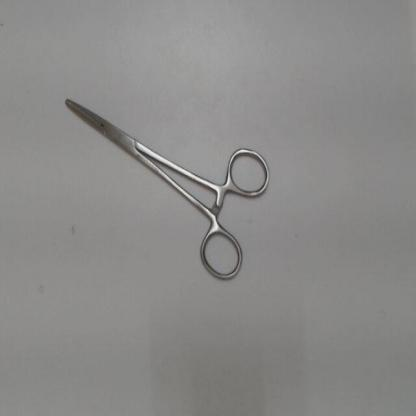Mayo Needle Holder: (49, 84, 283, 290)
